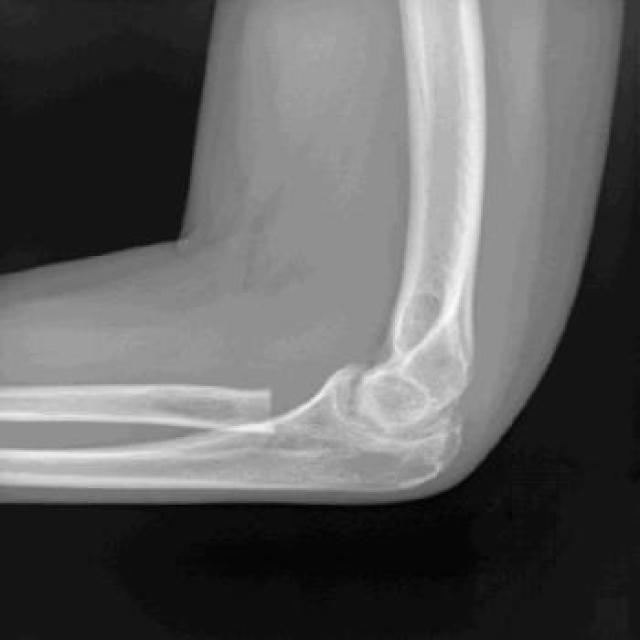Fracture: (244, 354, 358, 440)
